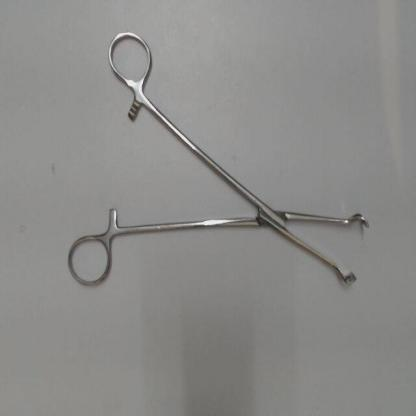8 Babcock Tissue Forceps: (60, 21, 376, 294)
